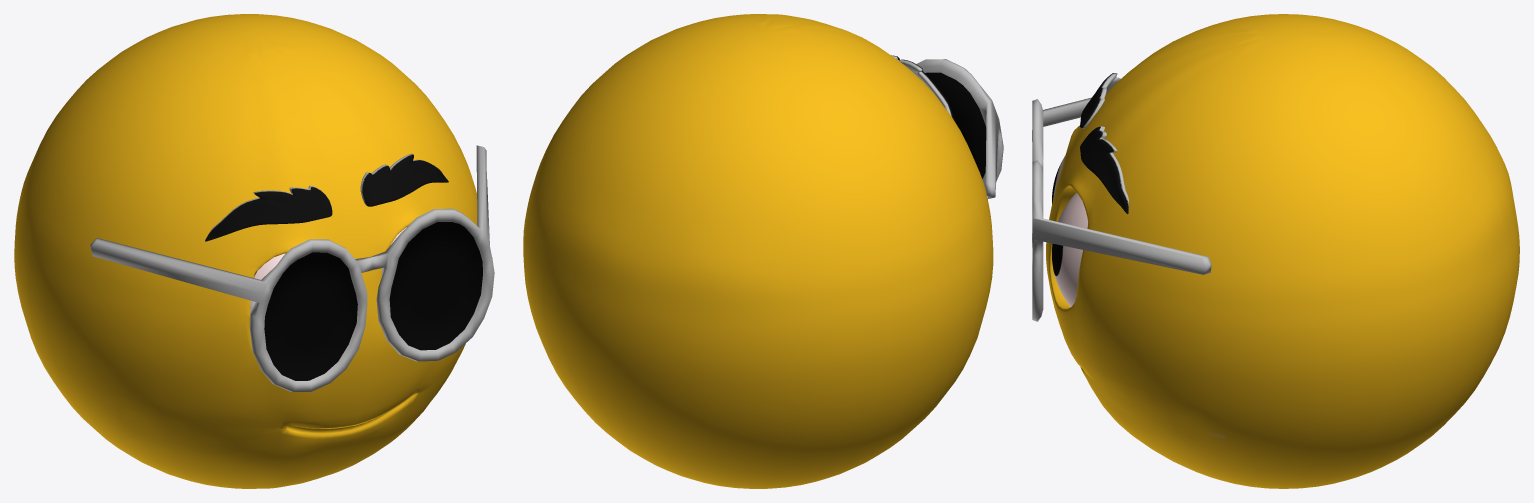
The model's file is cool_000014.obj.
3 renders of one model, left to right at view 1: azimuth 30°, elevation 25°; view 2: azimuth 150°, elevation 25°; view 3: azimuth 270°, elevation 25°, orthographic.
Visible parts, largest first — view 1: Smiley_goggle:Smiley_Untitled.001; view 2: Smiley_goggle:Smiley_Untitled.001; view 3: Smiley_goggle:Smiley_Untitled.001.
Boxes of the visible parts, left/top/right/bottom form: Smiley_goggle:Smiley_Untitled.001: left=14, top=14, right=494, bottom=488; Smiley_goggle:Smiley_Untitled.001: left=523, top=14, right=1003, bottom=488; Smiley_goggle:Smiley_Untitled.001: left=1032, top=14, right=1519, bottom=488.
Size of the model in its own units: 0.0425 by 0.0431 by 0.044.
Materials: 2 (2 with a texture image).
